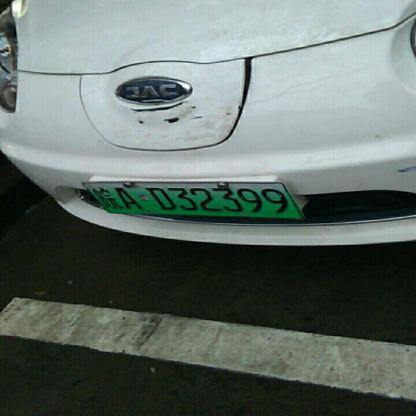lp: (81, 182, 304, 217)
